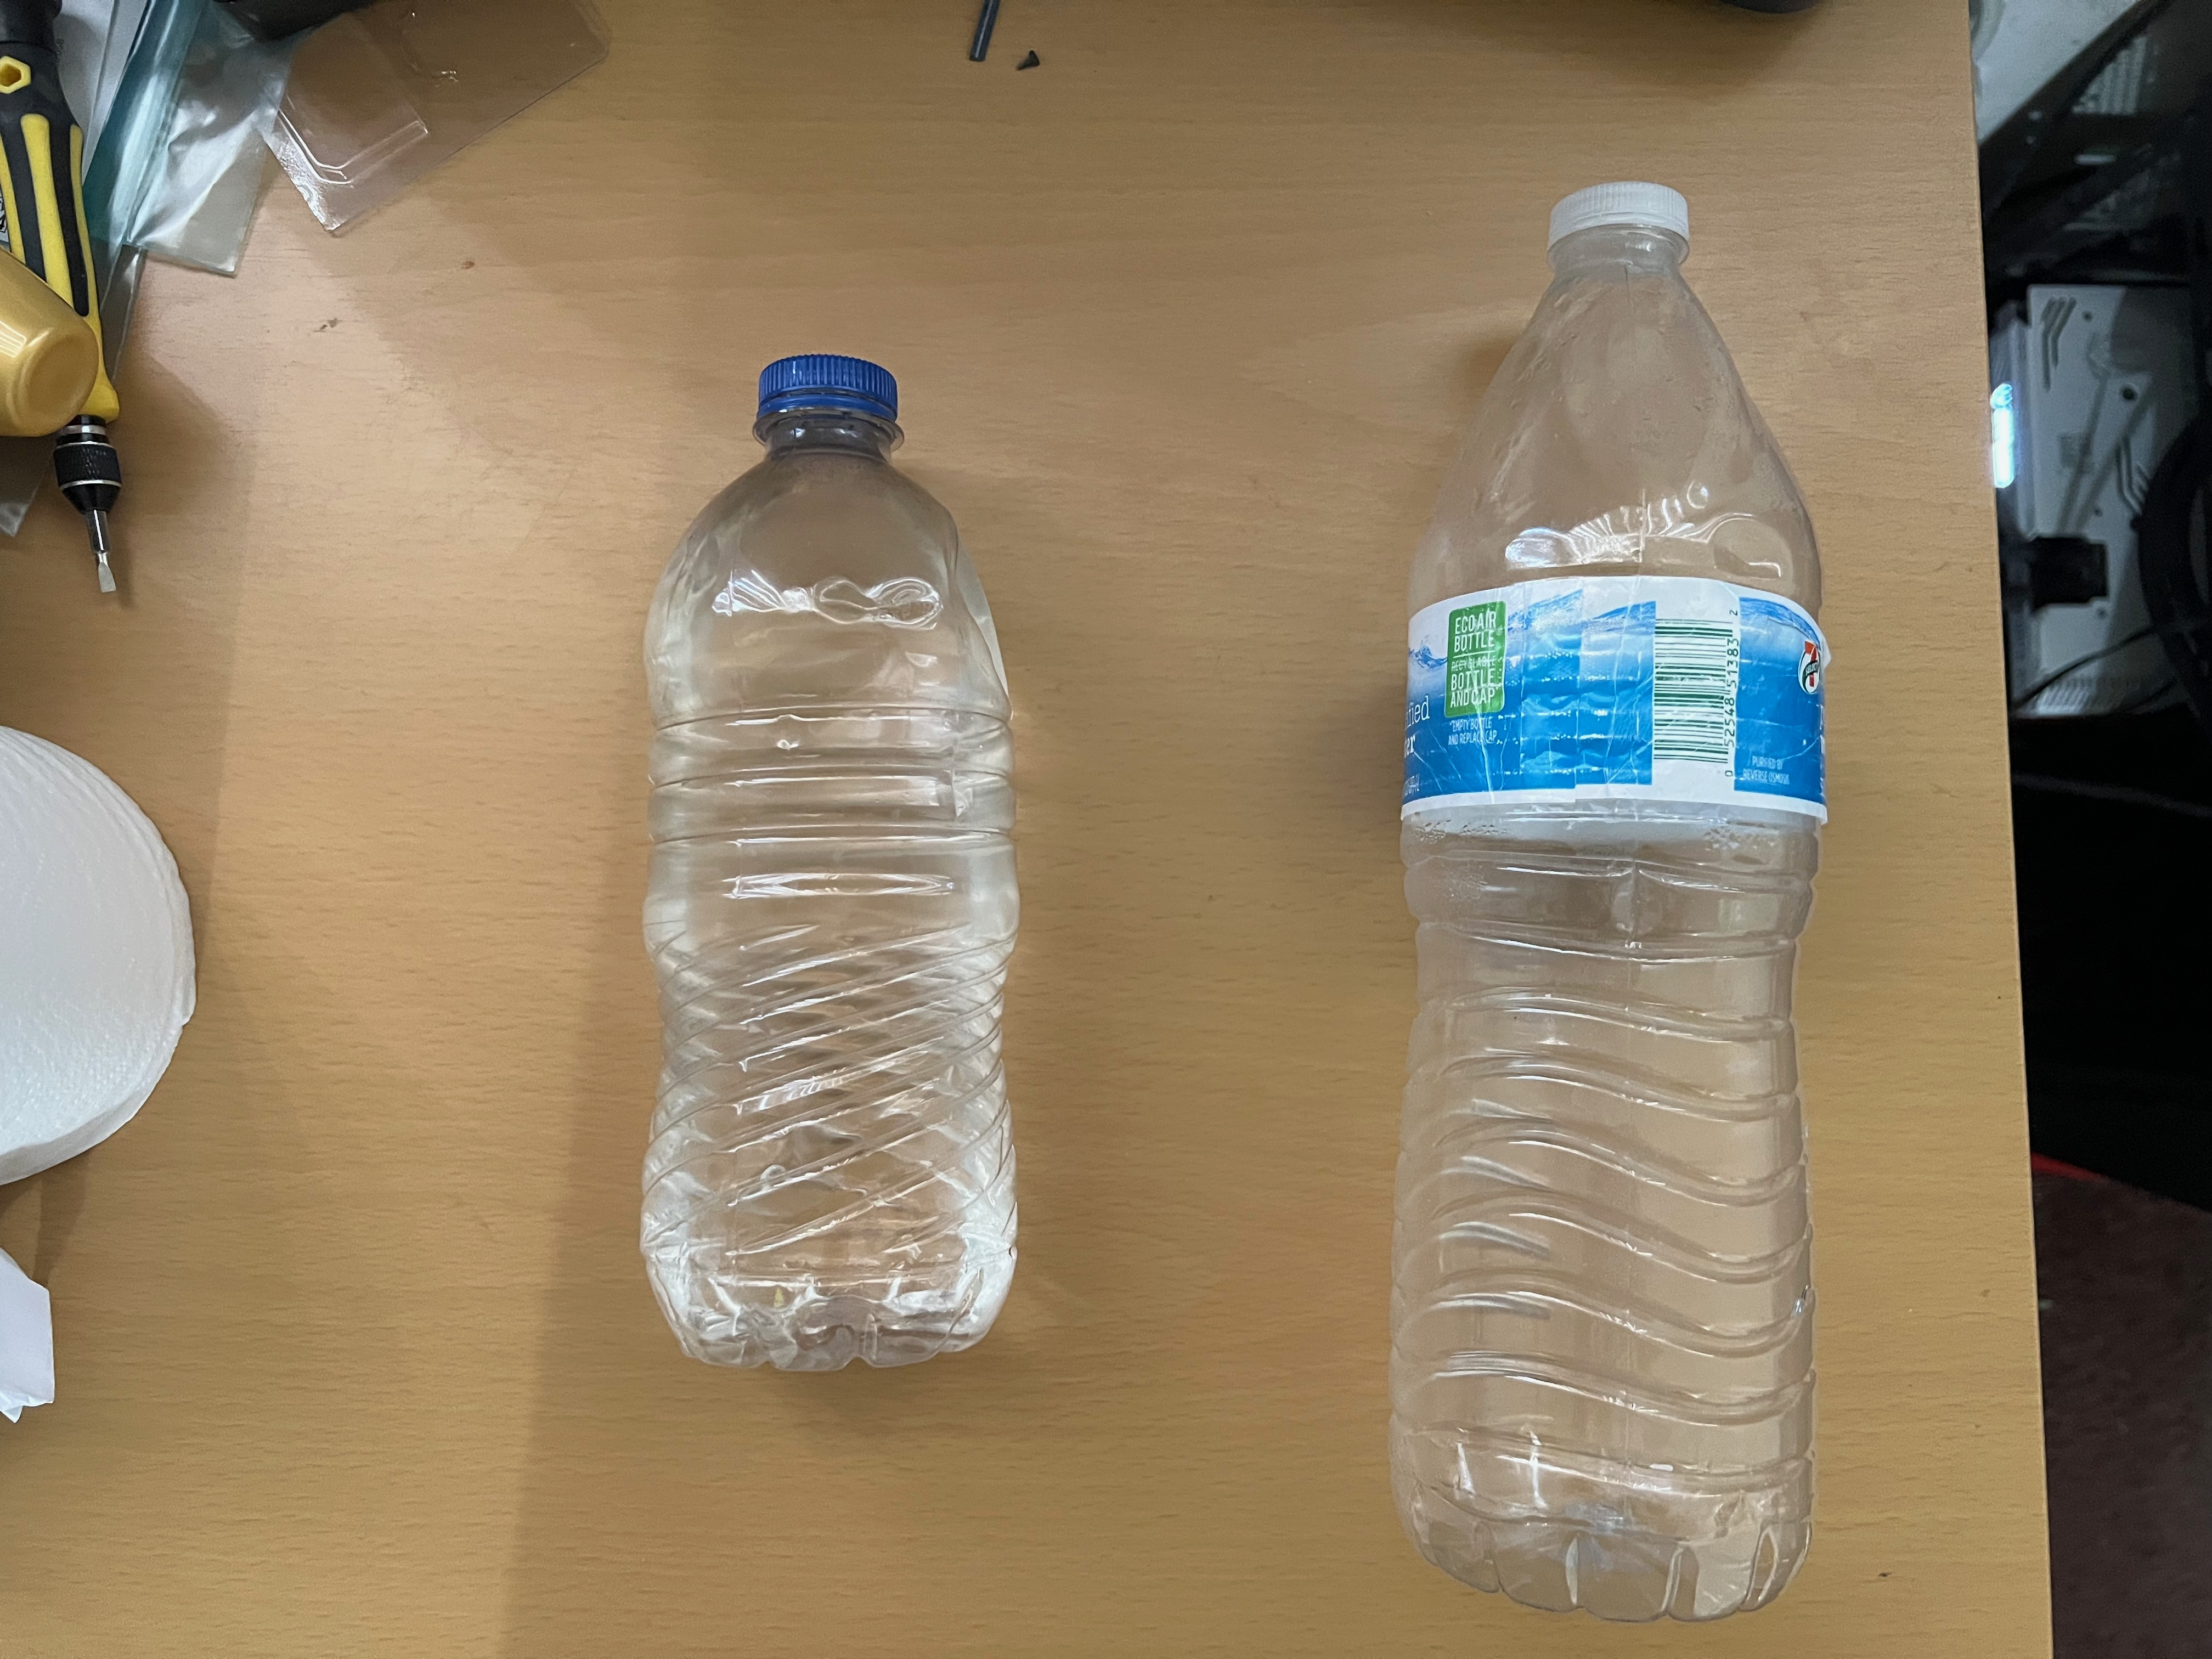trash bottle: (1386, 171, 1831, 1629), (636, 347, 1026, 1387)
